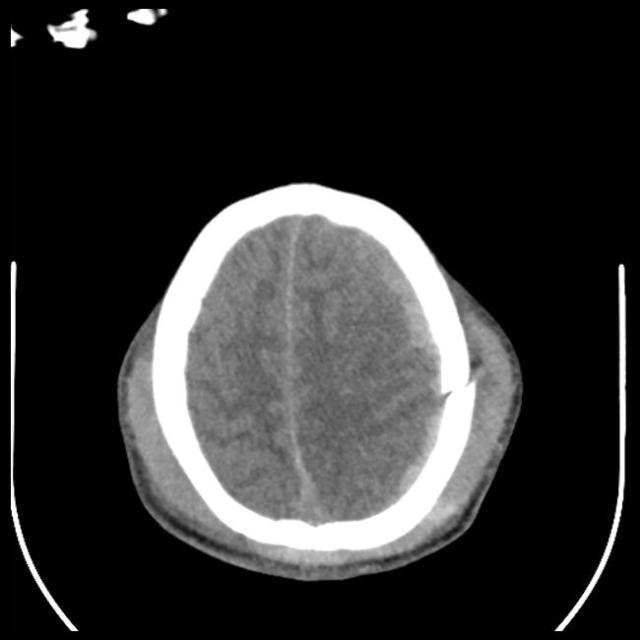lesion: (112, 176, 527, 584)
